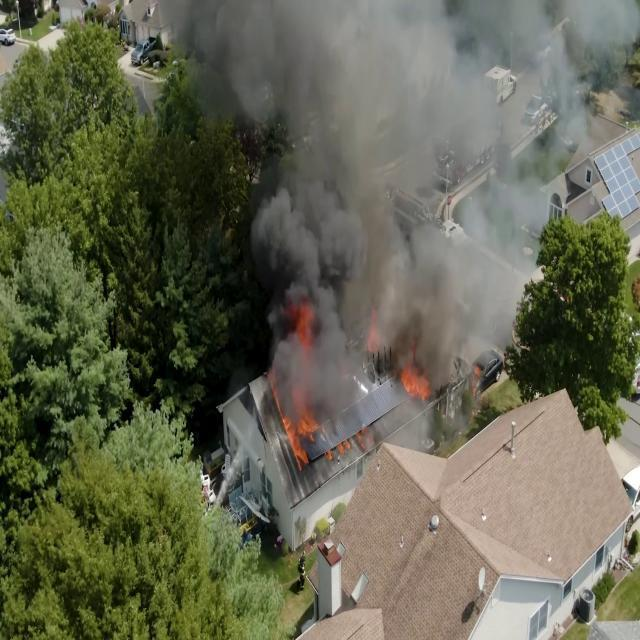Fire: (399, 360, 429, 408)
Smoke: (280, 72, 396, 276), (197, 0, 413, 103)
